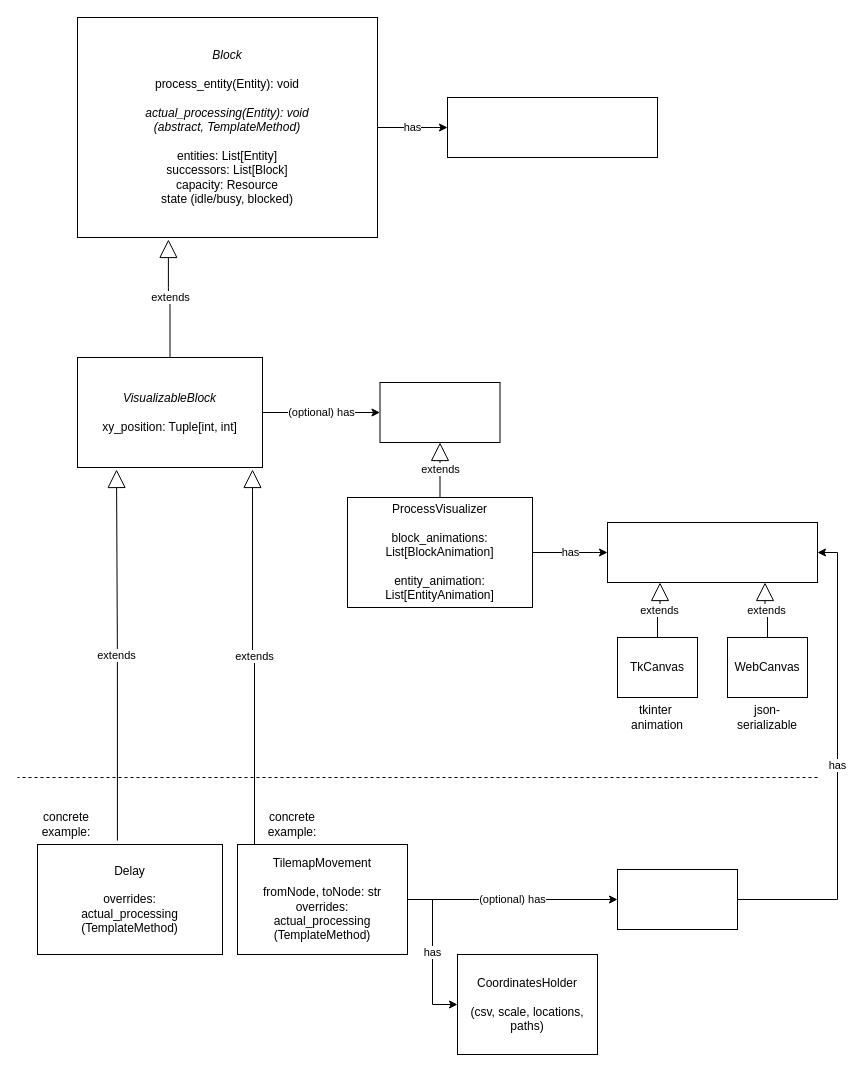
Some shapes in this 864 by 1072 pixel diagram are drawn without their labels. Here are the shapes that lost their labels. From the top down, the box of each, then its label:
(446, 96, 658, 158): (simpy.) Environment
(379, 382, 500, 442): BlockVisualizer
(606, 522, 818, 582): ScaledCanvas
(616, 868, 738, 930): TilemapVisualizer
